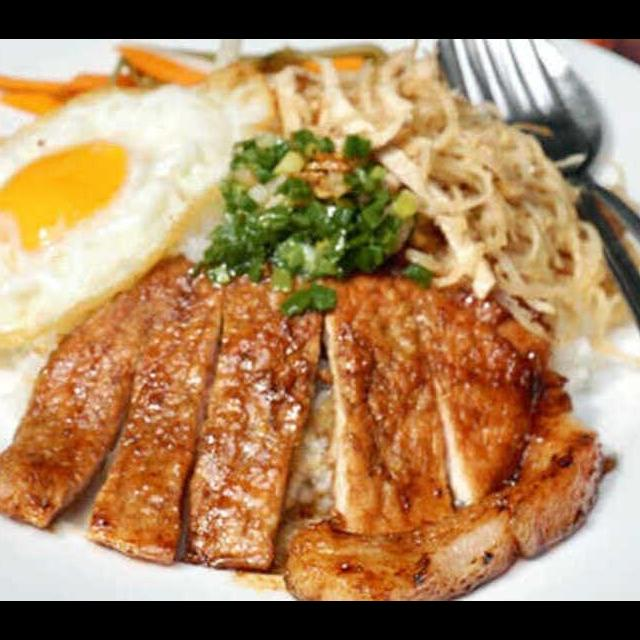bi: (262, 40, 640, 348)
com suon bi trung: (0, 75, 640, 601)
dua chua: (0, 40, 384, 121)
suon: (0, 247, 611, 601)
trung: (0, 68, 247, 360)
